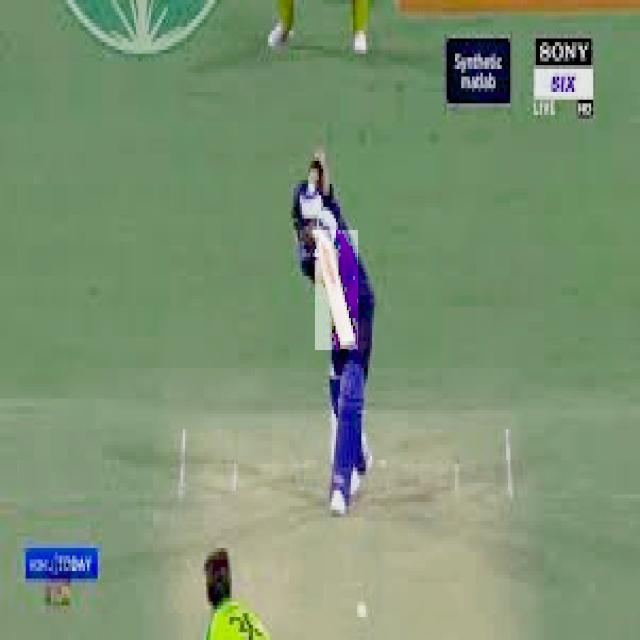bat: (311, 230, 358, 348)
toe: (337, 336, 359, 347)
